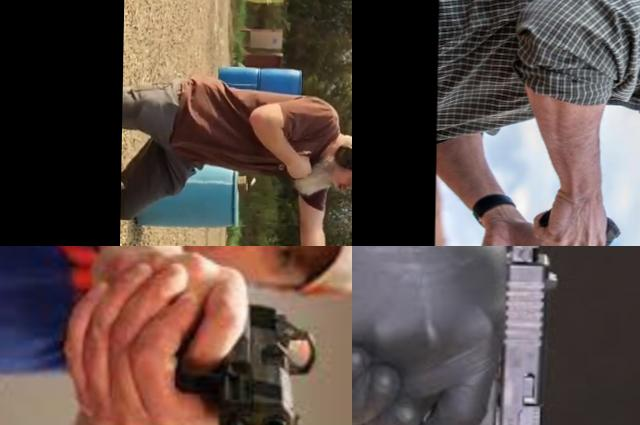handgun: (391, 246, 562, 425), (152, 296, 323, 425), (535, 203, 627, 246)
